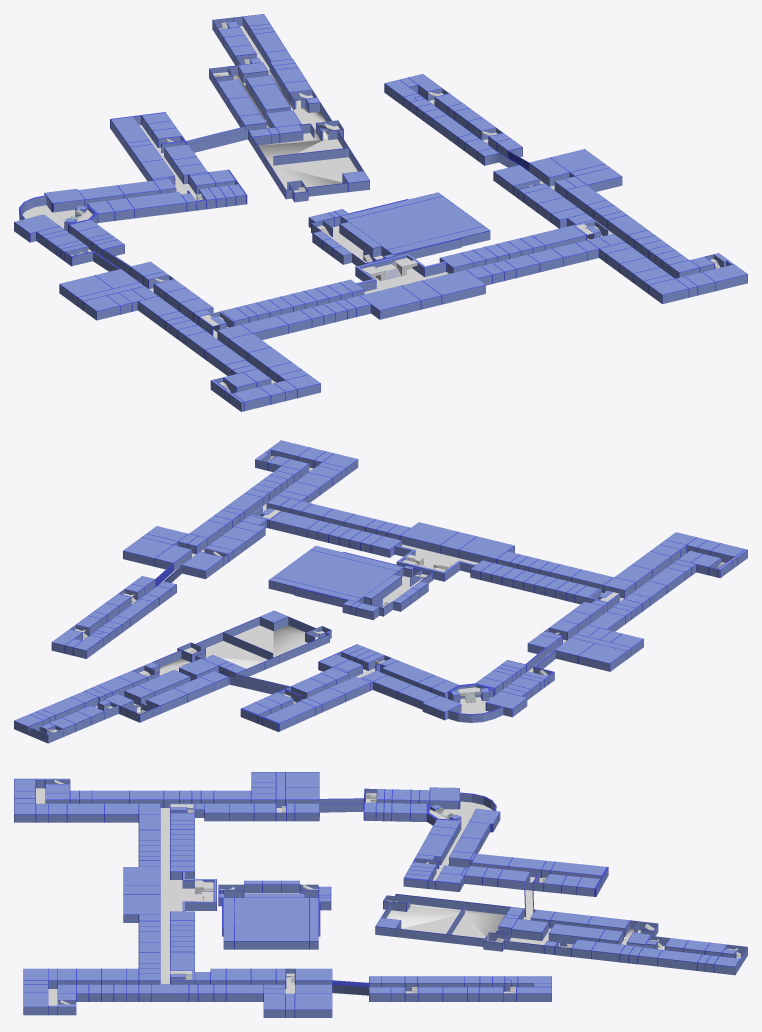
Rendered from dstu_2.glb.
The picture shows the model from 3 angles, top to bottom: view 1: azimuth 30°, elevation 25°; view 2: azimuth 150°, elevation 25°; view 3: azimuth 270°, elevation 25°; orthographic projection. The views are drawn at different scales.
Parts seen in each view (by area): view 1: 1-8.2, 1-8.001, 7.2, K2, 2, 62, Lcentr; view 2: 1-8.2, 1-8.001, 7.2, K2, 2, 62; view 3: 1-8.2, 1-8.001, 7.2, K2, 2, 62.
Part boxes in pixels (box(x1,y1,x2,y2)): 1-8.2: box(14, 112, 746, 411); 1-8.001: box(14, 112, 747, 411); 7.2: box(209, 59, 369, 202); K2: box(308, 192, 490, 266); 2: box(384, 74, 528, 171); 62: box(212, 14, 292, 70); Lcentr: box(362, 258, 417, 280); 1-8.2: box(123, 440, 747, 731); 1-8.001: box(124, 440, 747, 731); 7.2: box(84, 610, 331, 722); K2: box(268, 546, 433, 619); 2: box(51, 563, 181, 658); 62: box(14, 691, 118, 743); 1-8.2: box(14, 772, 608, 1017); 1-8.001: box(14, 772, 608, 1017); 7.2: box(375, 894, 658, 964); K2: box(218, 880, 331, 949); 2: box(332, 976, 551, 1001); 62: box(638, 936, 747, 975).
Bounding box in the file's own units: 180 × 3.99 × 235.
